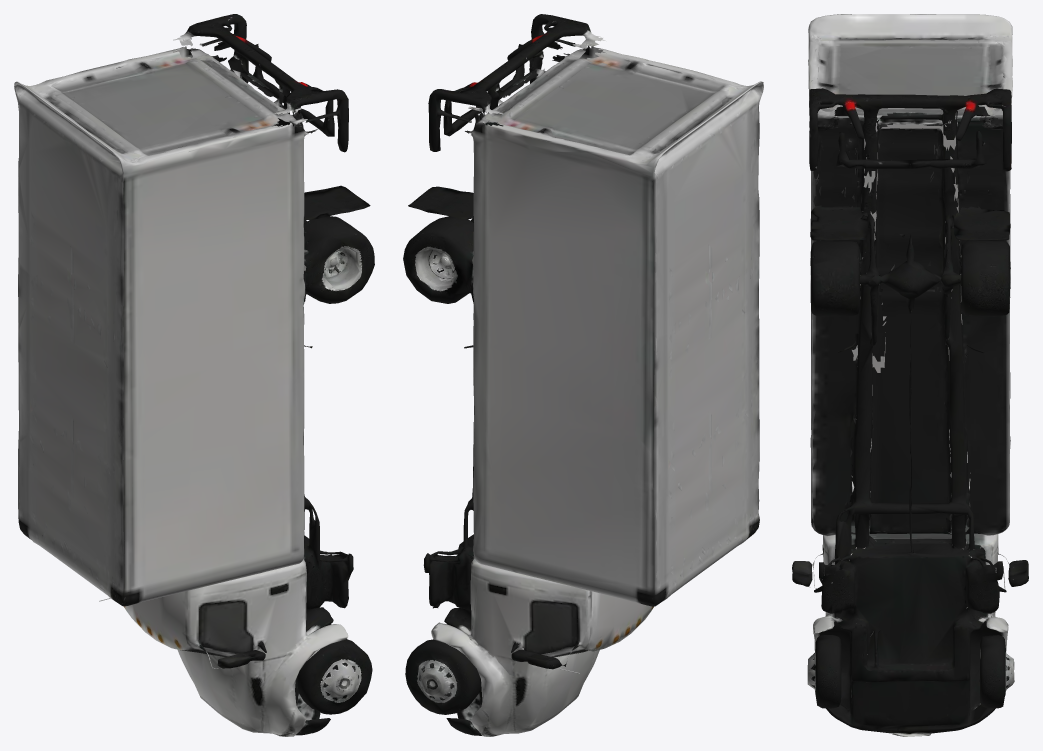
File: box-truck.glb
The picture shows the model from 3 angles, left to right: view 1: azimuth 30°, elevation 25°; view 2: azimuth 150°, elevation 25°; view 3: azimuth 270°, elevation 25°; orthographic projection. The views are drawn at different scales.
Visible parts, largest first — view 1: tripo_part_0, tripo_part_3, tripo_part_4, tripo_part_17, tripo_part_9, tripo_part_22, tripo_part_25, tripo_part_19, tripo_part_24, tripo_part_10; view 2: tripo_part_0, tripo_part_3, tripo_part_4, tripo_part_9, tripo_part_16, tripo_part_21, tripo_part_23, tripo_part_18, tripo_part_24, tripo_part_2; view 3: tripo_part_0, tripo_part_3, tripo_part_10, tripo_part_4, tripo_part_9, tripo_part_16, tripo_part_17, tripo_part_22, tripo_part_21, tripo_part_23, tripo_part_19, tripo_part_25 (+9 smaller).
Part boxes in pixels (left/top/right/bottom): tripo_part_0: left=14, top=46, right=317, bottom=606; tripo_part_3: left=99, top=535, right=333, bottom=687; tripo_part_4: left=177, top=624, right=348, bottom=736; tripo_part_17: left=303, top=216, right=374, bottom=303; tripo_part_9: left=173, top=14, right=348, bottom=152; tripo_part_22: left=297, top=639, right=372, bottom=714; tripo_part_25: left=306, top=551, right=353, bottom=610; tripo_part_19: left=304, top=185, right=370, bottom=219; tripo_part_24: left=253, top=44, right=334, bottom=136; tripo_part_10: left=303, top=436, right=328, bottom=562; tripo_part_0: left=465, top=43, right=763, bottom=606; tripo_part_3: left=444, top=534, right=653, bottom=698; tripo_part_4: left=431, top=624, right=599, bottom=736; tripo_part_9: left=428, top=14, right=605, bottom=151; tripo_part_16: left=403, top=216, right=473, bottom=303; tripo_part_21: left=405, top=639, right=480, bottom=714; tripo_part_23: left=423, top=544, right=471, bottom=610; tripo_part_18: left=408, top=186, right=473, bottom=219; tripo_part_24: left=443, top=44, right=524, bottom=136; tripo_part_2: left=511, top=650, right=567, bottom=669; tripo_part_0: left=808, top=14, right=1012, bottom=536; tripo_part_3: left=814, top=492, right=1006, bottom=705; tripo_part_10: left=832, top=206, right=974, bottom=562; tripo_part_4: left=813, top=607, right=1008, bottom=736; tripo_part_9: left=809, top=88, right=1011, bottom=171; tripo_part_16: left=940, top=240, right=1010, bottom=316; tripo_part_17: left=810, top=241, right=869, bottom=317; tripo_part_22: left=807, top=635, right=841, bottom=708; tripo_part_21: left=979, top=635, right=1014, bottom=708; tripo_part_23: left=963, top=547, right=1003, bottom=613; tripo_part_19: left=810, top=205, right=867, bottom=240; tripo_part_25: left=819, top=551, right=857, bottom=613.
Bounding box in the file's own units: 0.4111 × 0.995 × 0.3409.
Materials: 27 (27 with a texture image).
